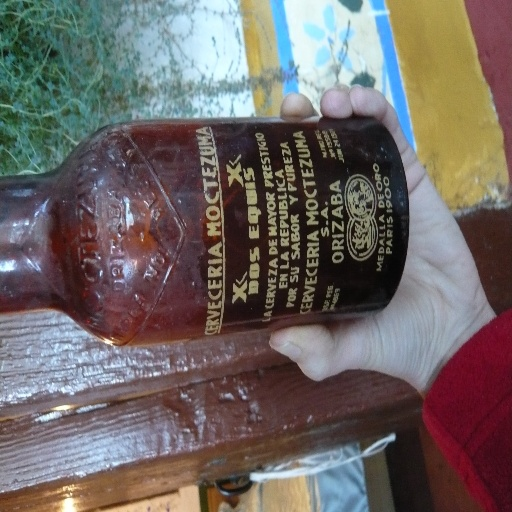hand: (267, 82, 511, 511)
